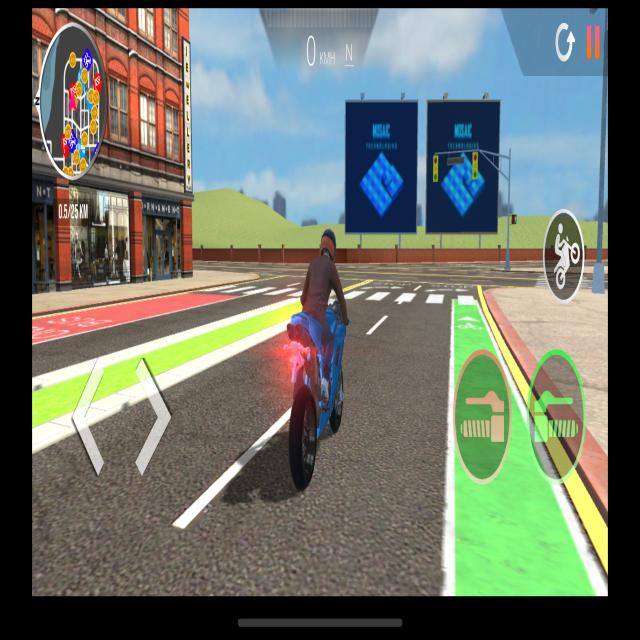billboard: (426, 96, 500, 237), (344, 96, 418, 236)
